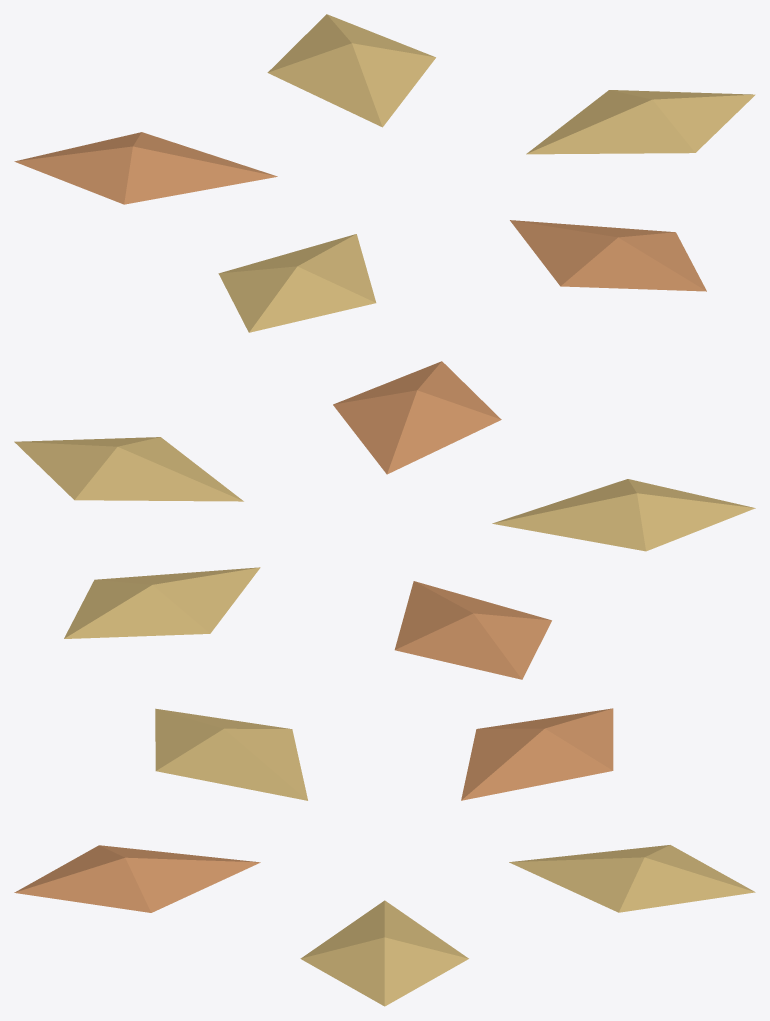
3 renders of one model, top to bottom at view 1: azimuth 30°, elevation 25°; view 2: azimuth 150°, elevation 25°; view 3: azimuth 270°, elevation 25°, orthographic. The views are drawn at different scales.
Visible parts, largest first — view 1: V11; view 2: V11; view 3: V11.
Boxes of the visible parts, bbox=[...] form: V11: bbox=[14, 14, 755, 332]; V11: bbox=[14, 361, 755, 679]; V11: bbox=[14, 708, 755, 1006].
Bounding box in the file's own units: 0.543 × 0.0199 × 0.5708.
